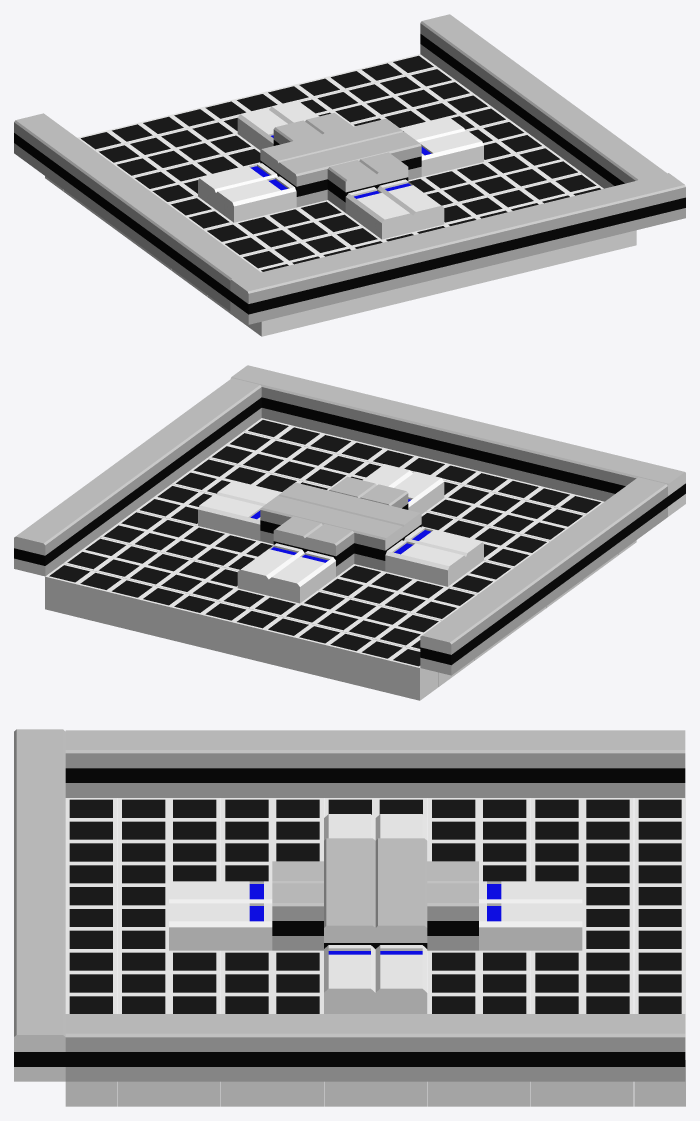
The model's file is crioLarge.fbx.
3 views of the same model, one above another, from view 1: azimuth 30°, elevation 25°; view 2: azimuth 150°, elevation 25°; view 3: azimuth 270°, elevation 25° (orthographic). The views are drawn at different scales.
Visible parts, largest first — view 1: Criocamera.001, Criocamera.004, Cube.187, Criocamera.003, Cube.163, Criocamera.005, Cube.176, Cube.183, Cube.179, Cube.180, Cube.181, Cube.186 (+122 smaller); view 2: Criocamera, Criocamera.006, Cube.014, Cube.162, Criocamera.002, Cube.144, Cube.193, Criocamera.007, Cube.027, Cube.072, Cube.123, Cube.051 (+132 smaller); view 3: Criocamera.005, Criocamera.007, Criocamera.002, Cube, Cube.005, Cube.014, Cube.158, Cube.161, Cube.162, Cube.171, Cube.173, Cube.001 (+140 smaller).
Boxes of the visible parts, x1,y1,x2,y2 form: Criocamera.001: [216, 176, 296, 222]; Criocamera.004: [345, 187, 412, 239]; Cube.187: [230, 272, 279, 324]; Criocamera.003: [419, 130, 483, 176]; Cube.163: [278, 154, 327, 207]; Criocamera.005: [377, 179, 444, 231]; Cube.176: [356, 241, 404, 294]; Cube.183: [606, 180, 654, 233]; Cube.179: [482, 211, 529, 263]; Cube.180: [419, 226, 467, 278]; Cube.181: [388, 234, 435, 286]; Cube.186: [638, 173, 685, 225]; Criocamera: [385, 540, 465, 586]; Criocamera.006: [268, 551, 335, 603]; Cube.014: [14, 523, 63, 576]; Cube.162: [420, 622, 469, 675]; Criocamera.002: [198, 494, 262, 540]; Cube.144: [388, 647, 437, 700]; Cube.193: [354, 518, 403, 571]; Criocamera.007: [237, 543, 304, 595]; Cube.027: [76, 571, 124, 624]; Cube.072: [232, 609, 281, 662]; Cube.123: [326, 632, 374, 685]; Cube.051: [107, 578, 156, 631]; Criocamera.005: [169, 903, 272, 950]; Criocamera.007: [479, 903, 582, 950]; Criocamera.002: [375, 945, 427, 1013]; Cube: [65, 1014, 117, 1081]; Cube.005: [220, 1014, 272, 1081]; Cube.014: [633, 1014, 685, 1081]; Cube.158: [530, 1014, 582, 1081]; Cube.161: [530, 730, 582, 797]; Cube.162: [633, 730, 685, 797]; Cube.171: [220, 730, 272, 797]; Cube.173: [65, 730, 117, 797]; Cube.001: [375, 1014, 427, 1081].
Bounding box in the file's own units: 2800 × 400 × 2602.
